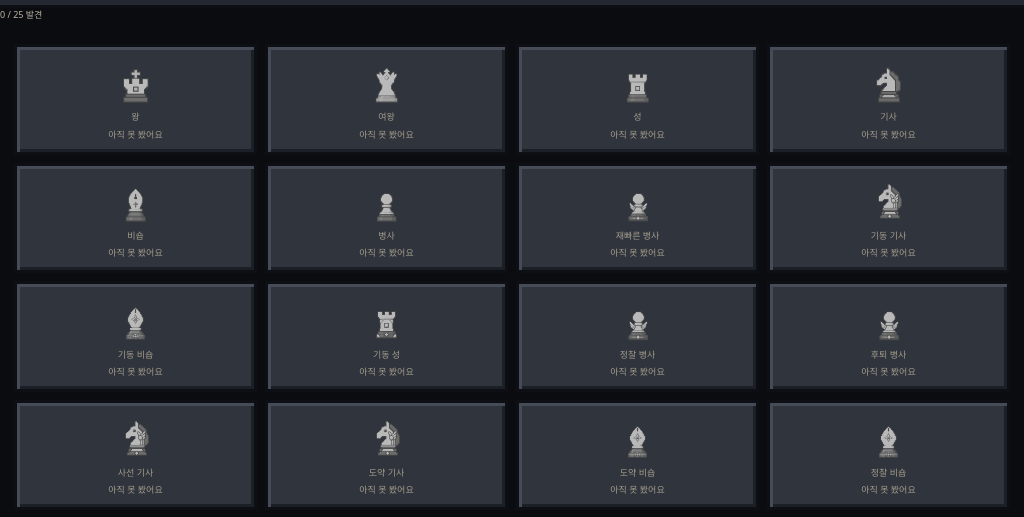
piece upgrade family in the dex › keeps the forge available and reports a refused durable write
(page scrolled)
Click the button "병사 아직 못 봤어요": coordinates (386, 218) 265,163 -> 508,273
(page scrolled)
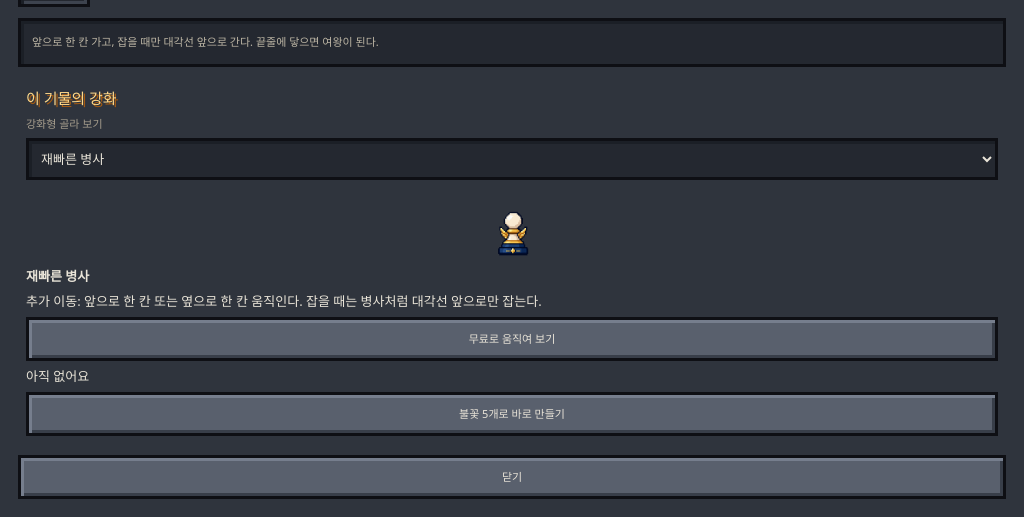
Click the button with test id "upgrade-forge-piece.pawn-plus": coordinates (512, 414) 26,392 -> 998,436
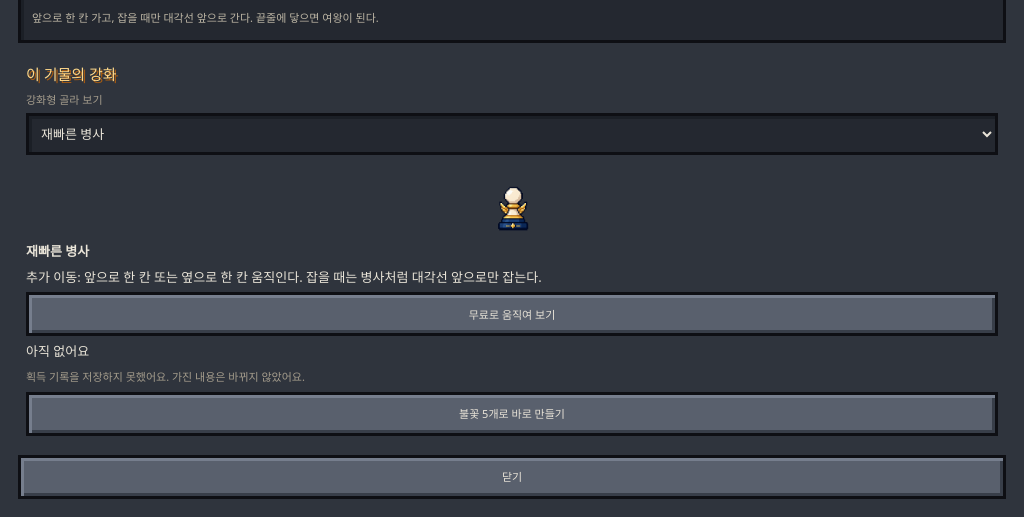
expect the button with test id "upgrade-forge-piece.pawn-plus" is shown: met, box 26,392 -> 998,436
expect the message "획득 기록을 저장하지 못했어요. 가진 내용은 바뀌지 않았어요." is shown: met, box 26,369 -> 305,384
